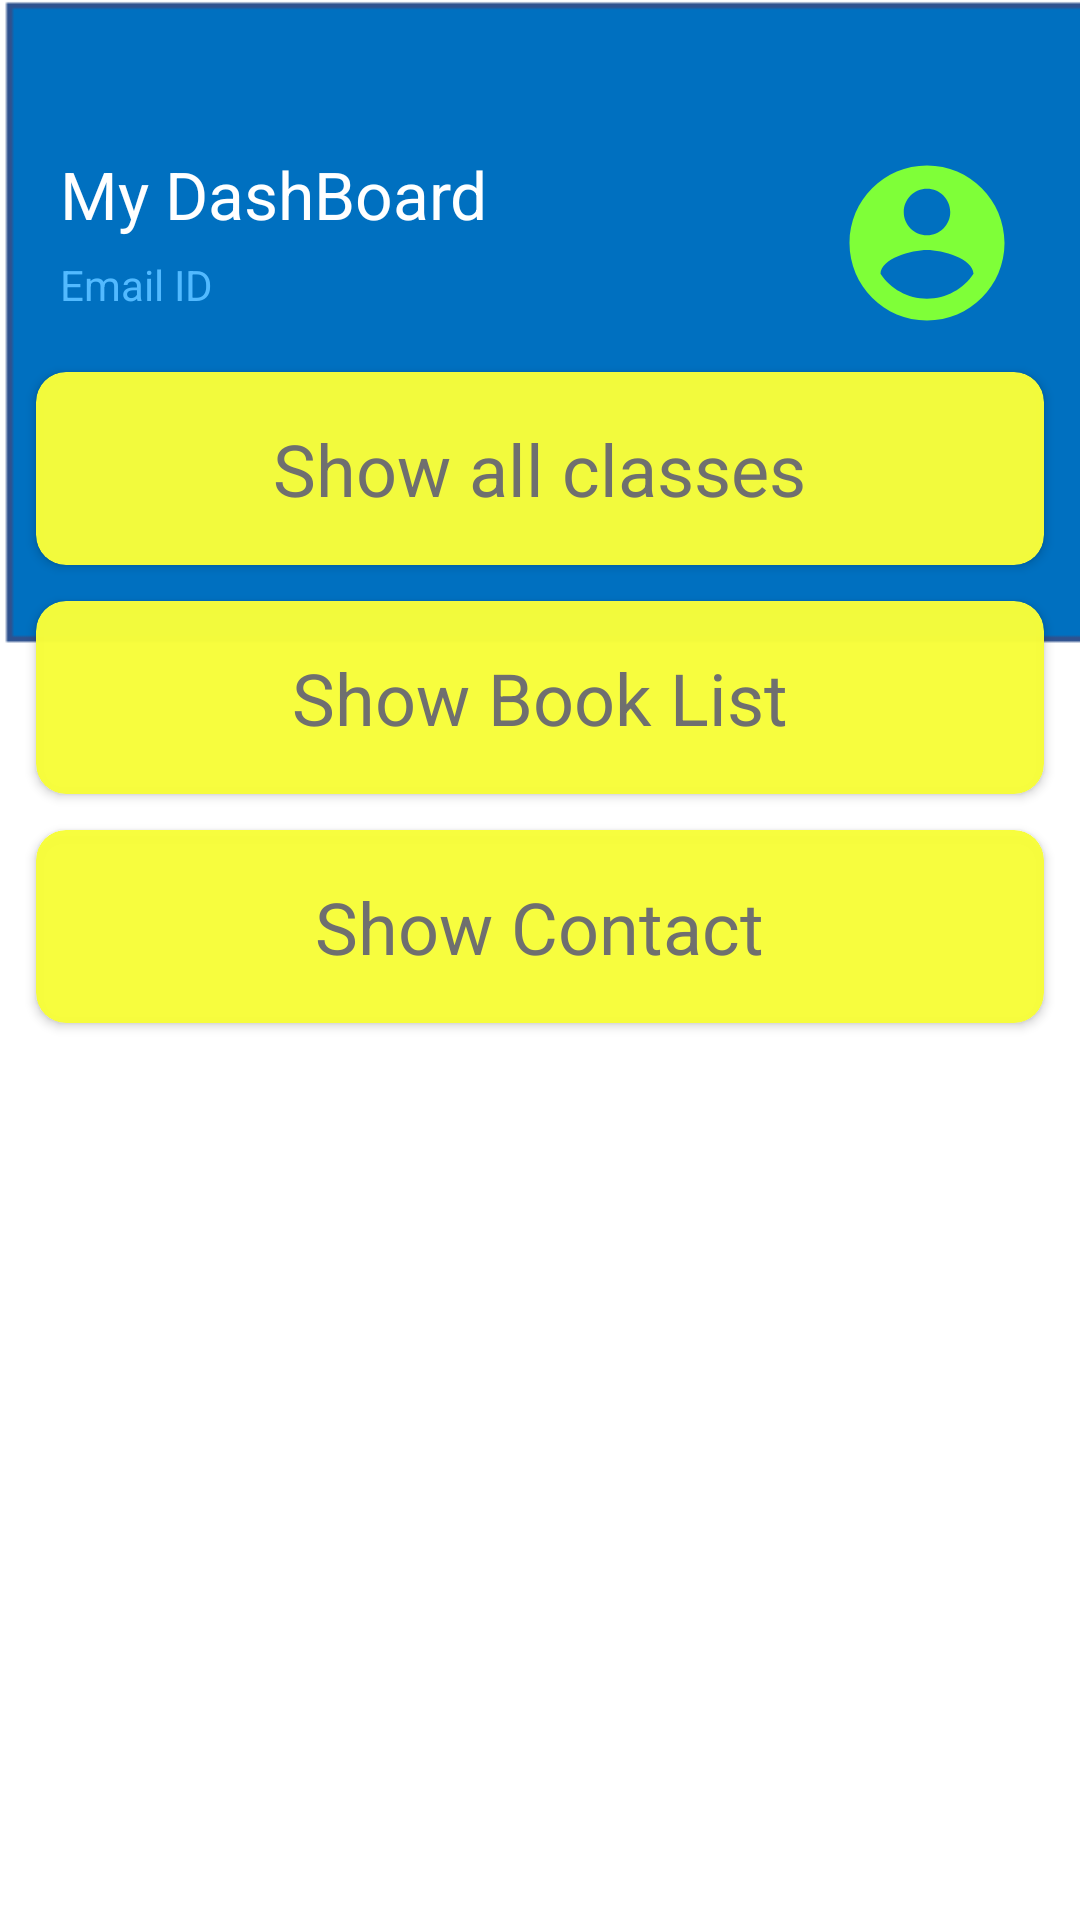

Named icons in this screenshot (1080×1920) and their centers, (x,y):
account: (927,243)
